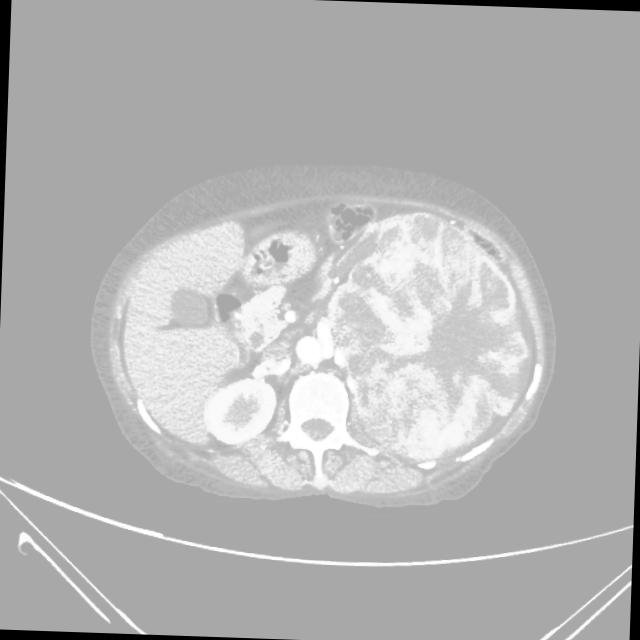TUMOR: (188, 266, 495, 423)
